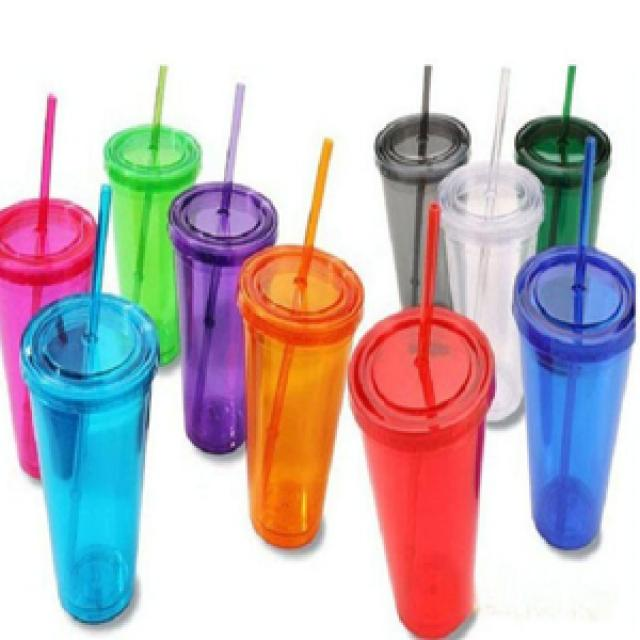plastic cup: (342, 299, 502, 638), (13, 290, 173, 627), (226, 237, 367, 561), (508, 241, 634, 574), (162, 177, 290, 459), (433, 147, 553, 444), (2, 192, 109, 489), (98, 117, 209, 378), (369, 106, 478, 328), (510, 109, 619, 269)
